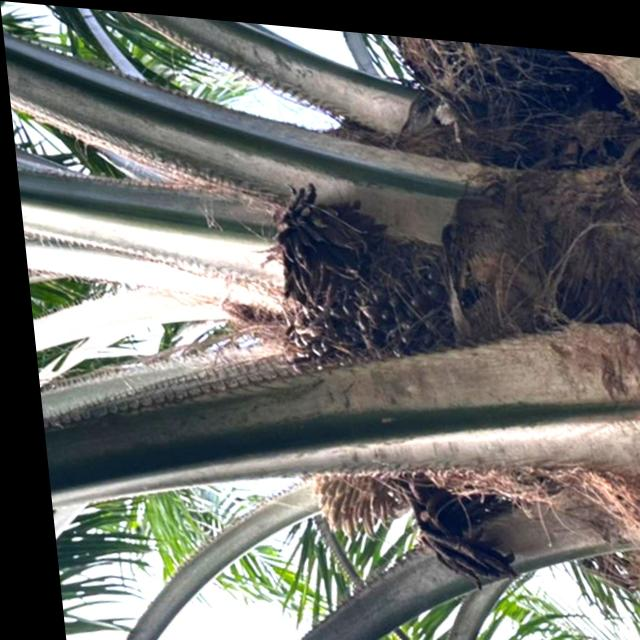ripe: (276, 234, 452, 361)
